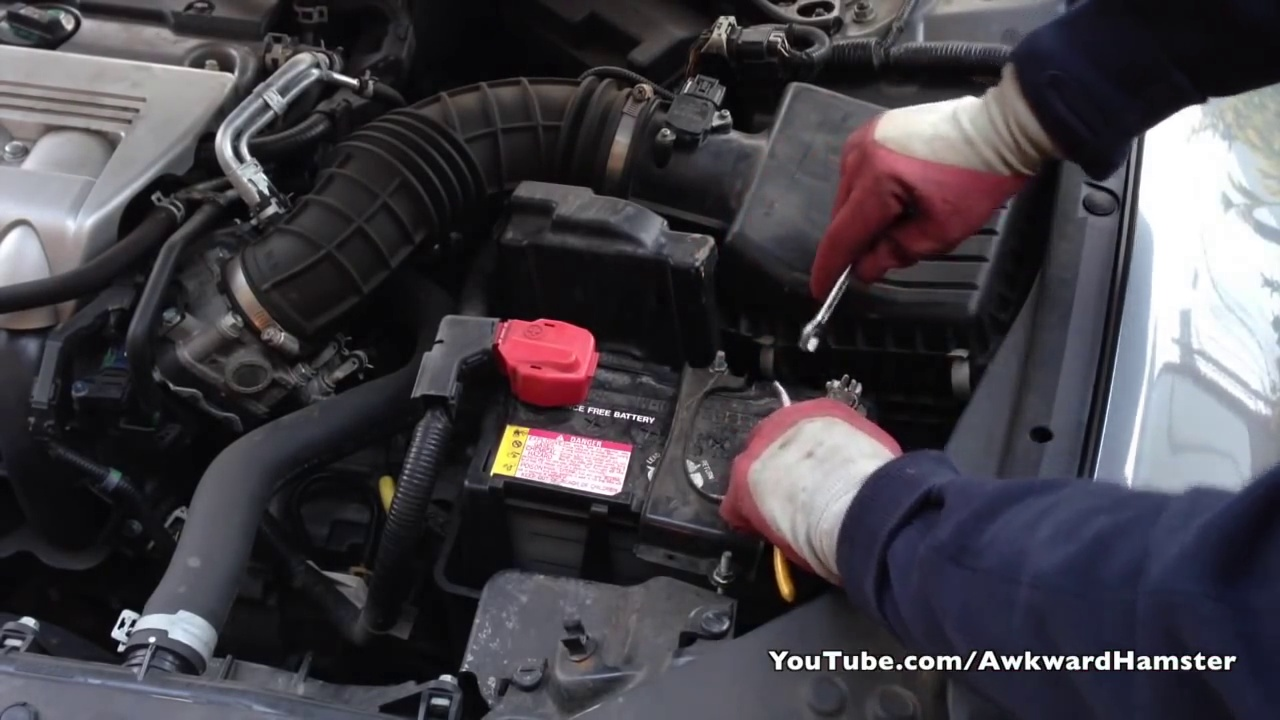battery: (467, 309, 826, 556)
pos_connected: (445, 276, 598, 427)
